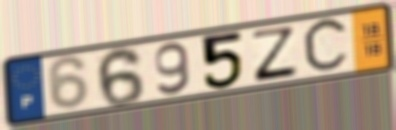5: (198, 28, 248, 91)
6: (94, 45, 147, 109), (45, 53, 94, 113)
9: (153, 40, 193, 99)
C: (300, 14, 351, 77)
Z: (251, 25, 301, 84)
